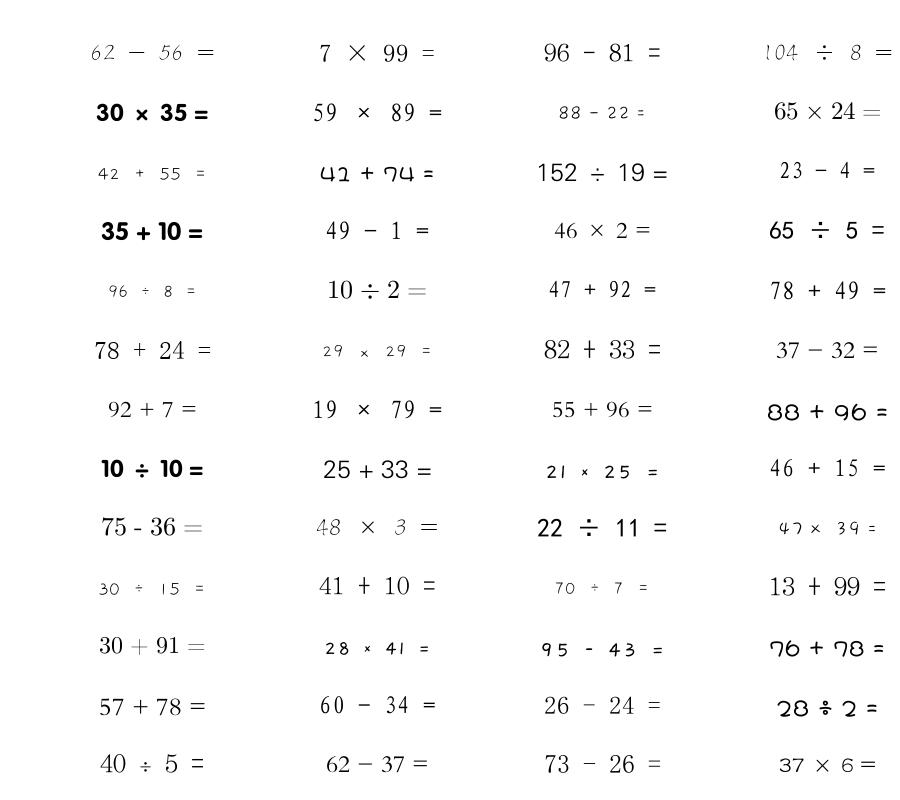MQ: (536, 163, 668, 182), (312, 103, 442, 122), (312, 400, 442, 419), (537, 518, 667, 537), (544, 339, 661, 359), (769, 576, 886, 596), (762, 44, 893, 61), (544, 43, 661, 62), (769, 281, 886, 300), (319, 576, 436, 595), (316, 518, 438, 536), (767, 403, 888, 421), (96, 103, 208, 122), (94, 341, 211, 359), (769, 459, 886, 477), (319, 696, 436, 714), (544, 696, 661, 714), (544, 755, 661, 773), (319, 44, 435, 62), (769, 221, 885, 239), (100, 753, 204, 773), (323, 460, 432, 479), (101, 221, 203, 241), (99, 636, 206, 655), (90, 44, 215, 60), (325, 221, 429, 240), (769, 640, 885, 657), (548, 280, 656, 298), (101, 459, 203, 478), (101, 517, 203, 536), (774, 102, 881, 120), (99, 698, 206, 716), (327, 280, 427, 299), (320, 166, 434, 182), (539, 643, 665, 657), (776, 342, 879, 359), (326, 756, 429, 773), (776, 700, 878, 717), (779, 161, 875, 179), (552, 401, 653, 418), (554, 222, 651, 239), (545, 465, 660, 479), (322, 344, 433, 358), (98, 167, 207, 181), (108, 401, 197, 418), (98, 582, 206, 596), (778, 521, 877, 536), (324, 642, 431, 655), (779, 758, 876, 772), (554, 582, 650, 595), (558, 106, 646, 120), (108, 285, 197, 298)
